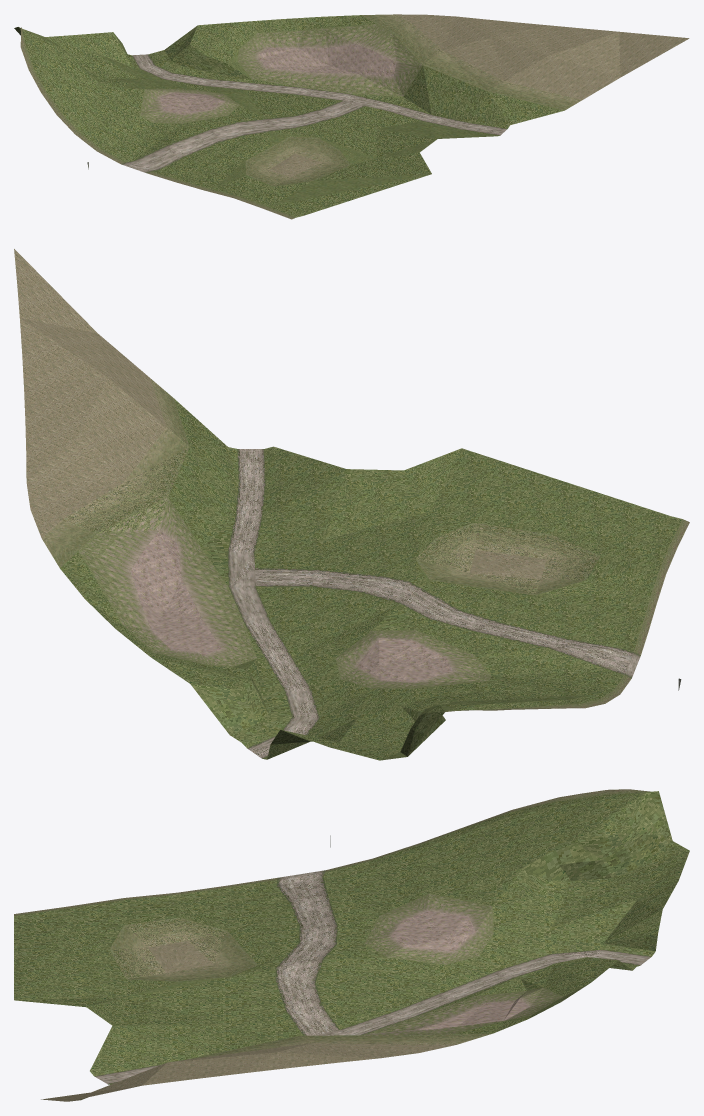
The model's file is lodcuntw69.obj.
3 renders of one model, top to bottom at view 1: azimuth 30°, elevation 25°; view 2: azimuth 150°, elevation 25°; view 3: azimuth 270°, elevation 25°, orthographic. The views are drawn at different scales.
Parts seen in each view (by area): view 1: lodcuntw69; view 2: lodcuntw69; view 3: lodcuntw69.
Part boxes in pixels (left/top/right/bottom): lodcuntw69: left=14, top=14, right=689, bottom=219; lodcuntw69: left=14, top=249, right=689, bottom=760; lodcuntw69: left=14, top=789, right=689, bottom=1101.
Size of the model in its own units: 219 by 32.84 by 168.
8 materials, 8 textured.
